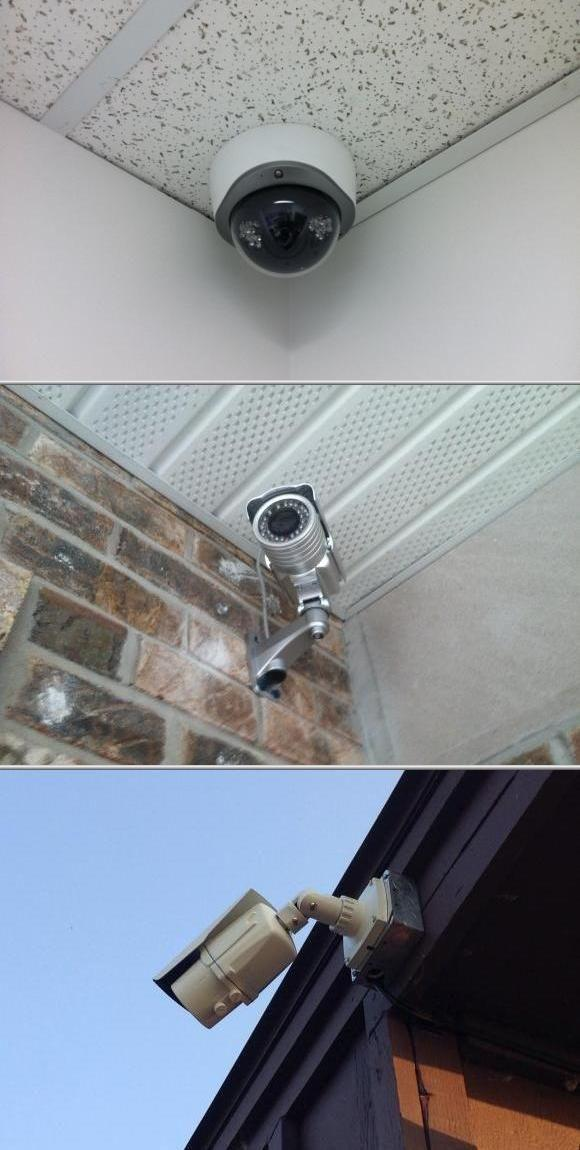CCTV: (153, 873, 422, 1031), (208, 123, 355, 276), (247, 484, 342, 699)
